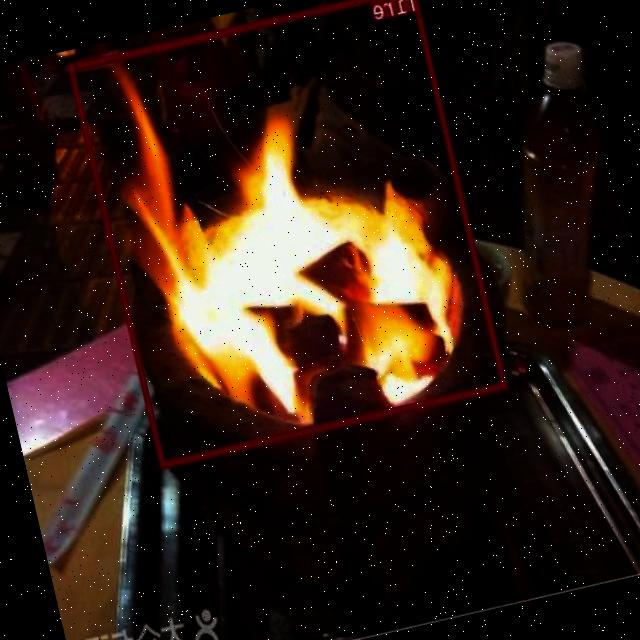fire: (68, 0, 507, 466)
